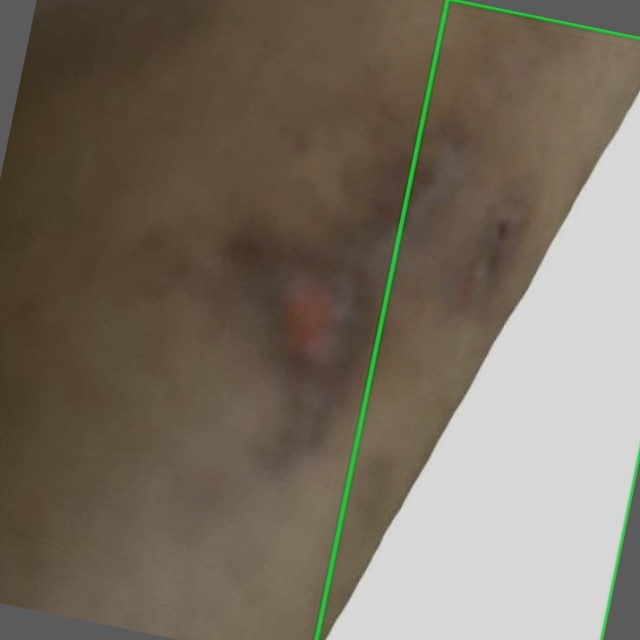Atopic Dermatitis: (316, 0, 639, 639)
